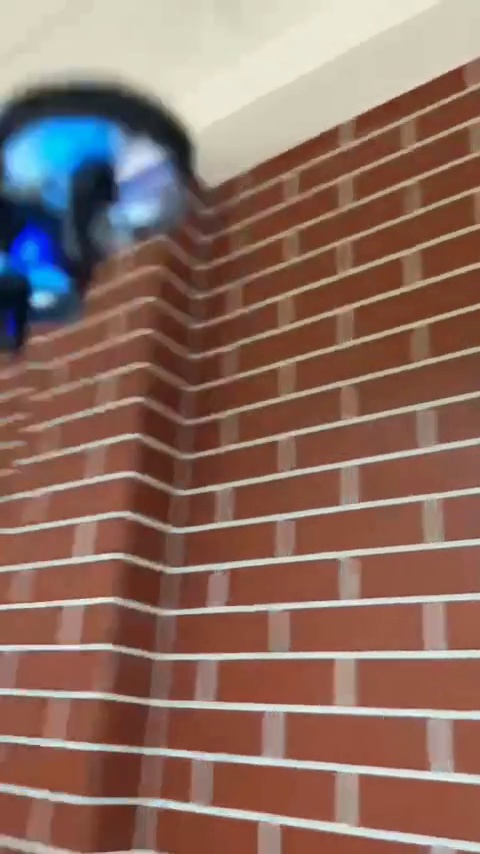drone: (0, 92, 193, 380)
